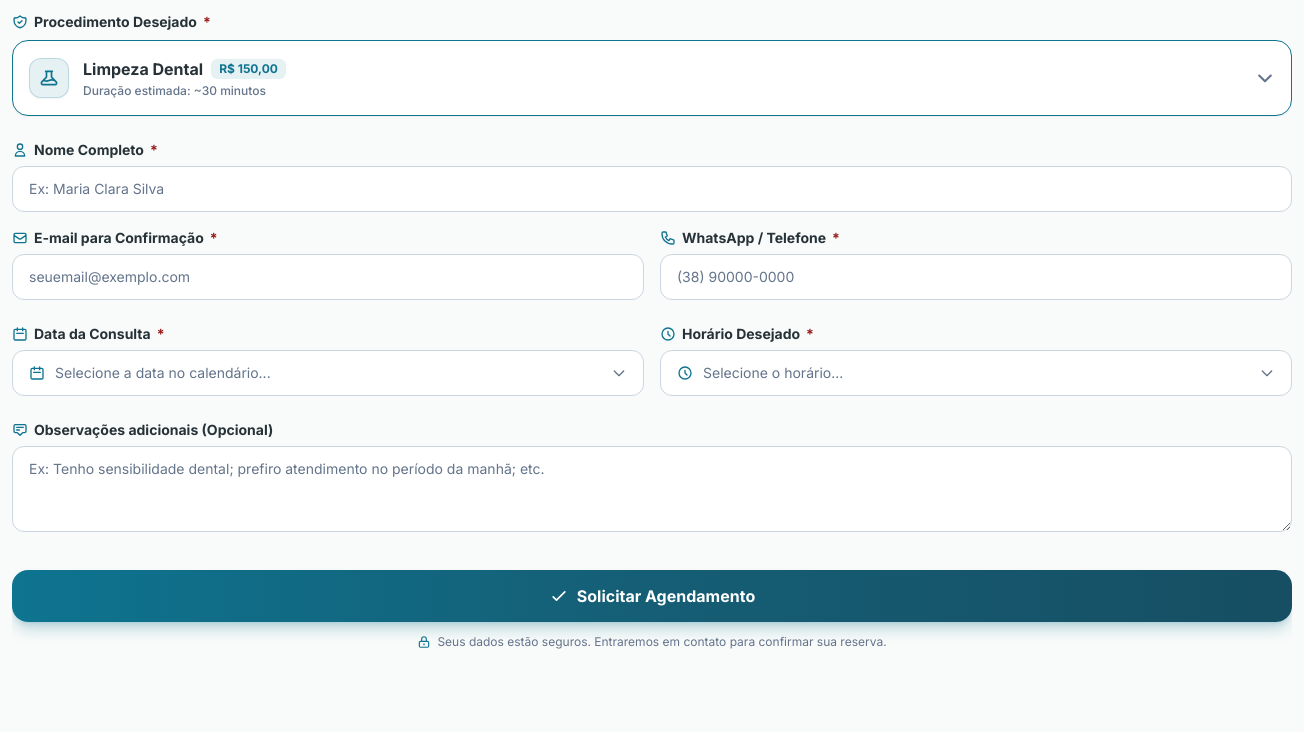
Scenario: AppointmentForm › deve exibir erro de validação quando data e horário não forem selecionados
Type "Carlos Drummond de Andrade" into the field labelled "Nome Completo *".
click(652, 189); type("Carlos Drummond de Andrade")  # box [12,166,1292,212]
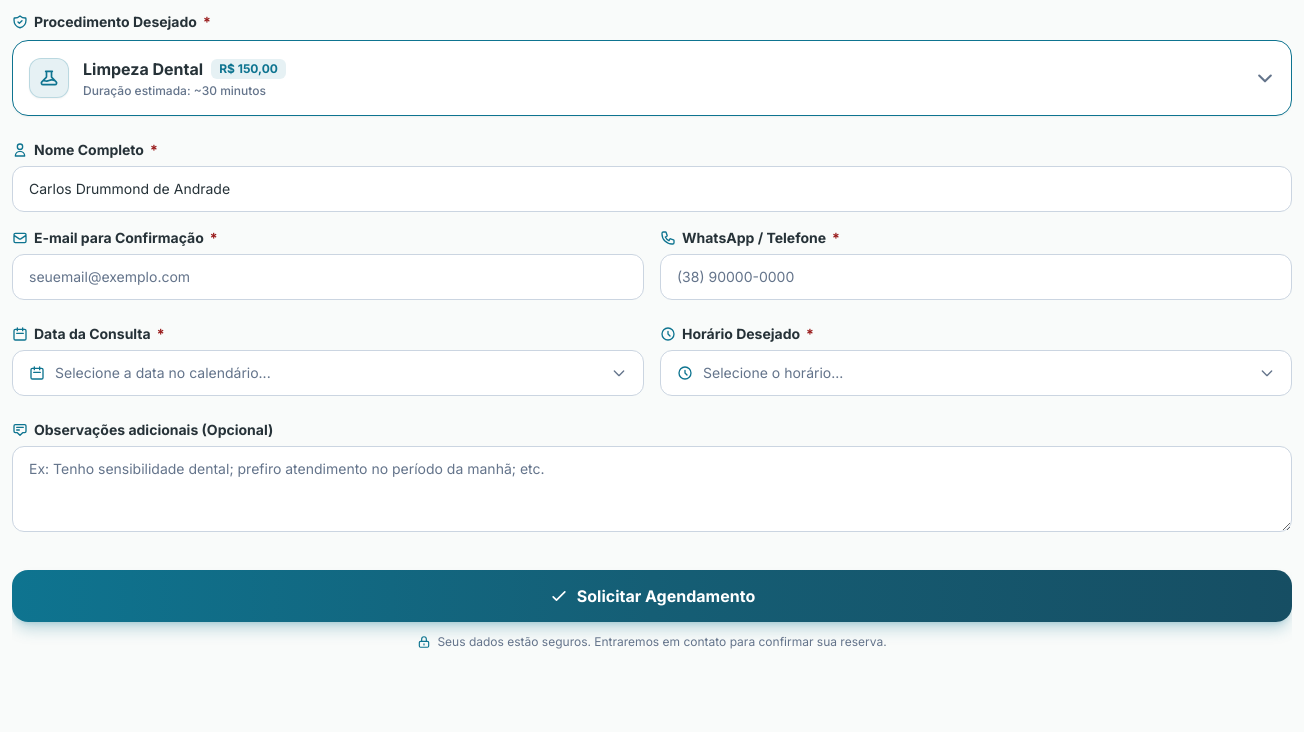
Type "carlos@exemplo.com" into the field labelled "E-mail para Confirmação *".
click(328, 277); type("carlos@exemplo.com")  # box [12,254,644,300]
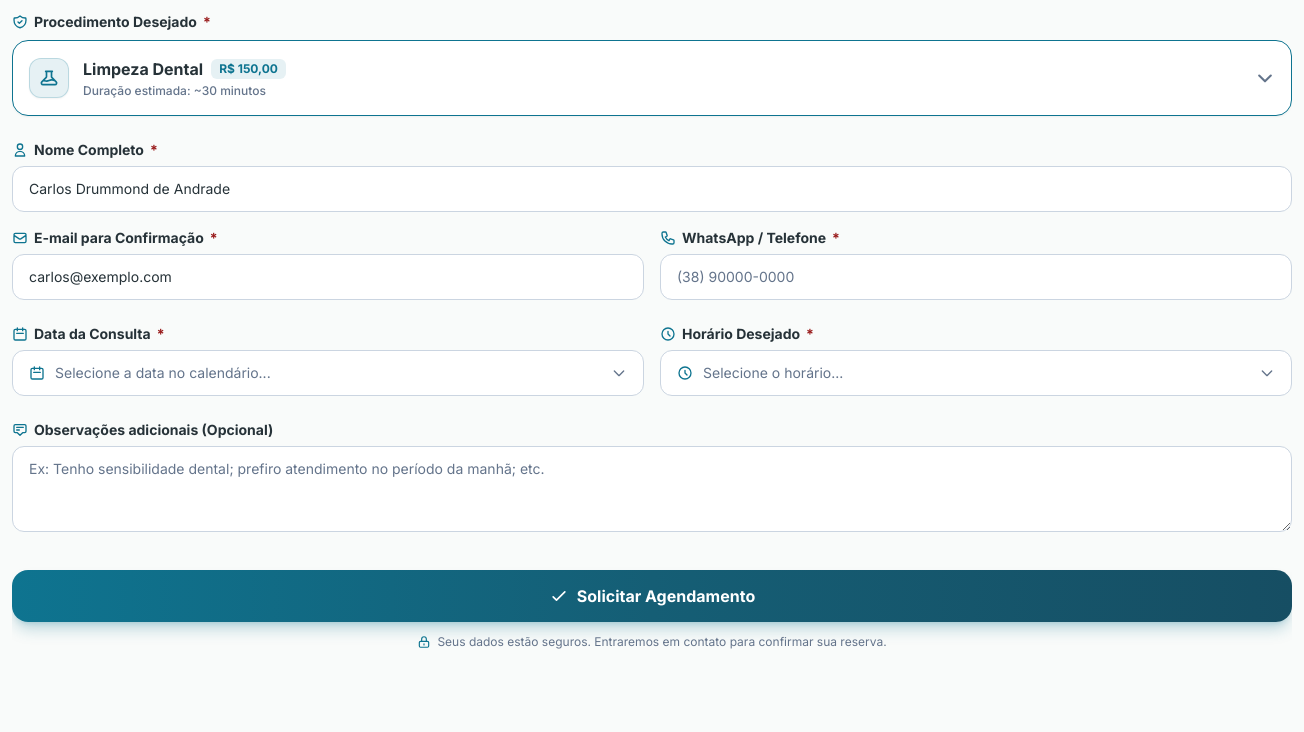
Type "(38) 99999-8888" into the field labelled "WhatsApp / Telefone *".
click(976, 277); type("(38) 99999-8888")  # box [660,254,1292,300]
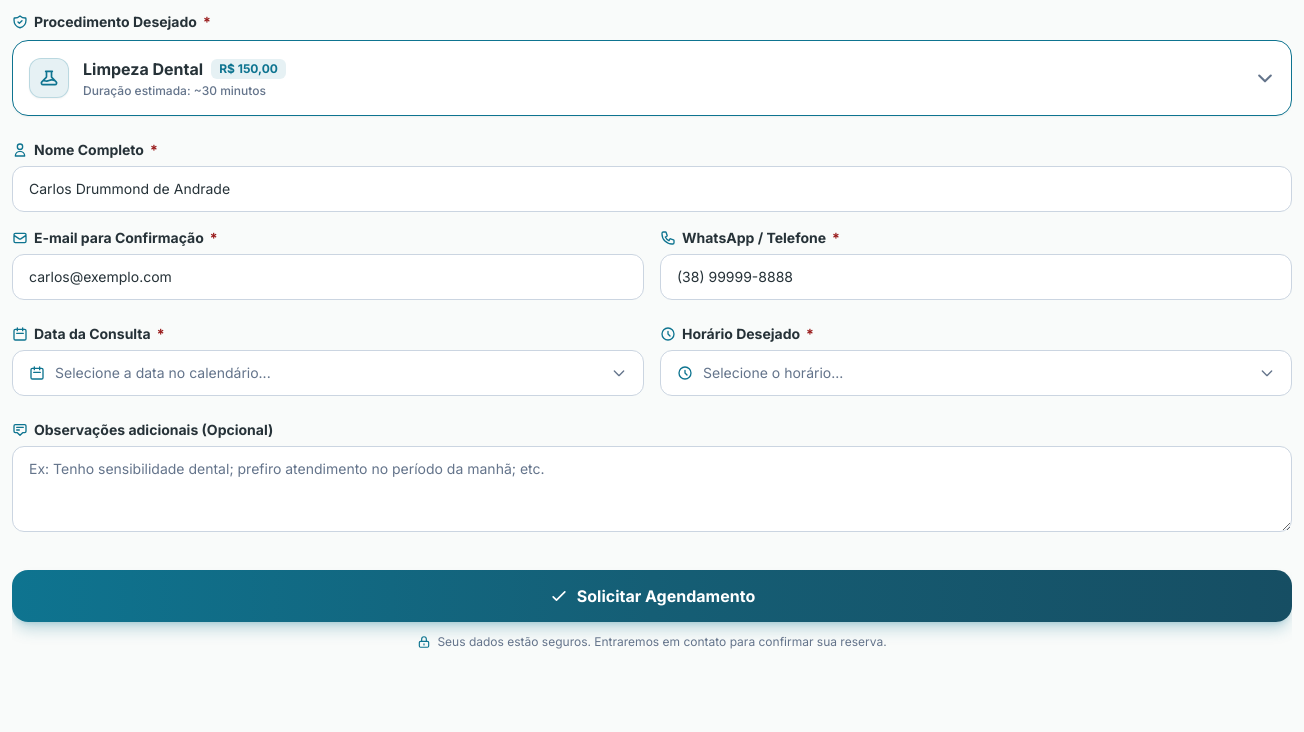
Click the button "Solicitar Agendamento".
click(652, 596)  # box [12,570,1292,622]
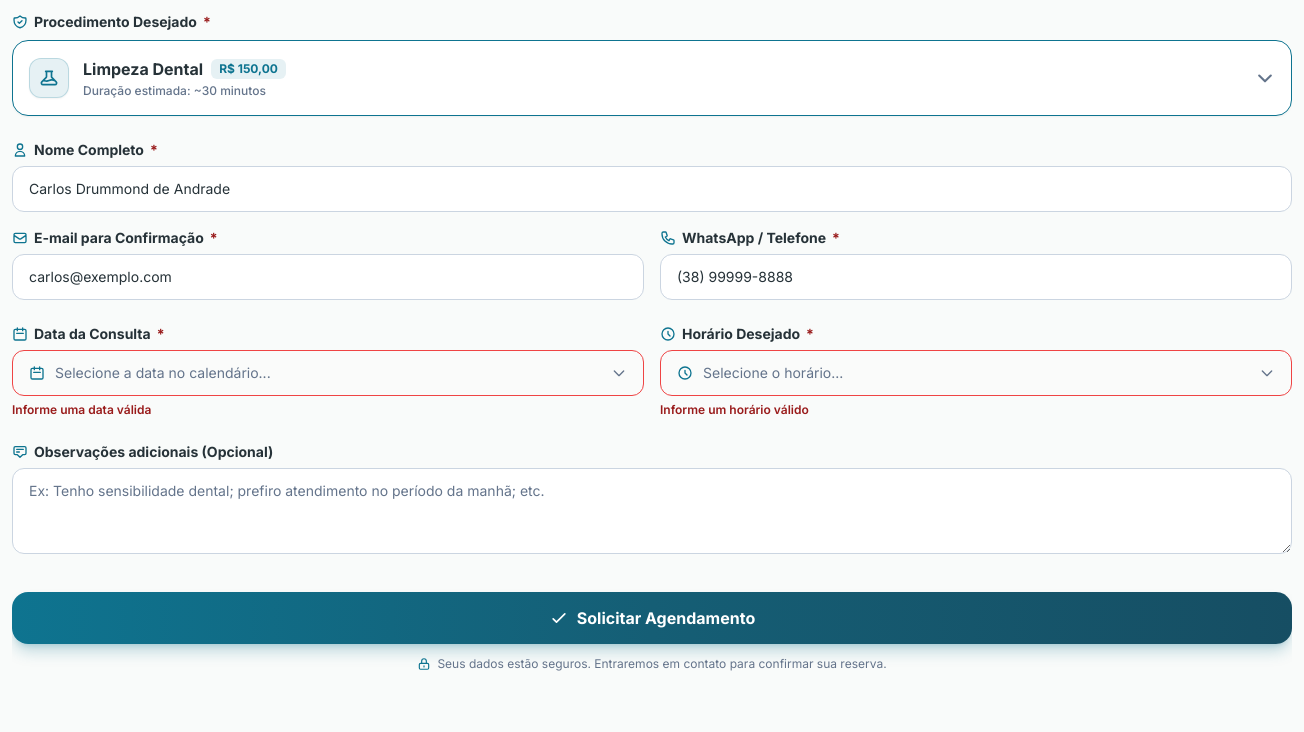
Check: the text "Informe uma data válida" is shown, box [12,402,151,417]
Check: the text "Informe um horário válido" is shown, box [660,402,809,417]
